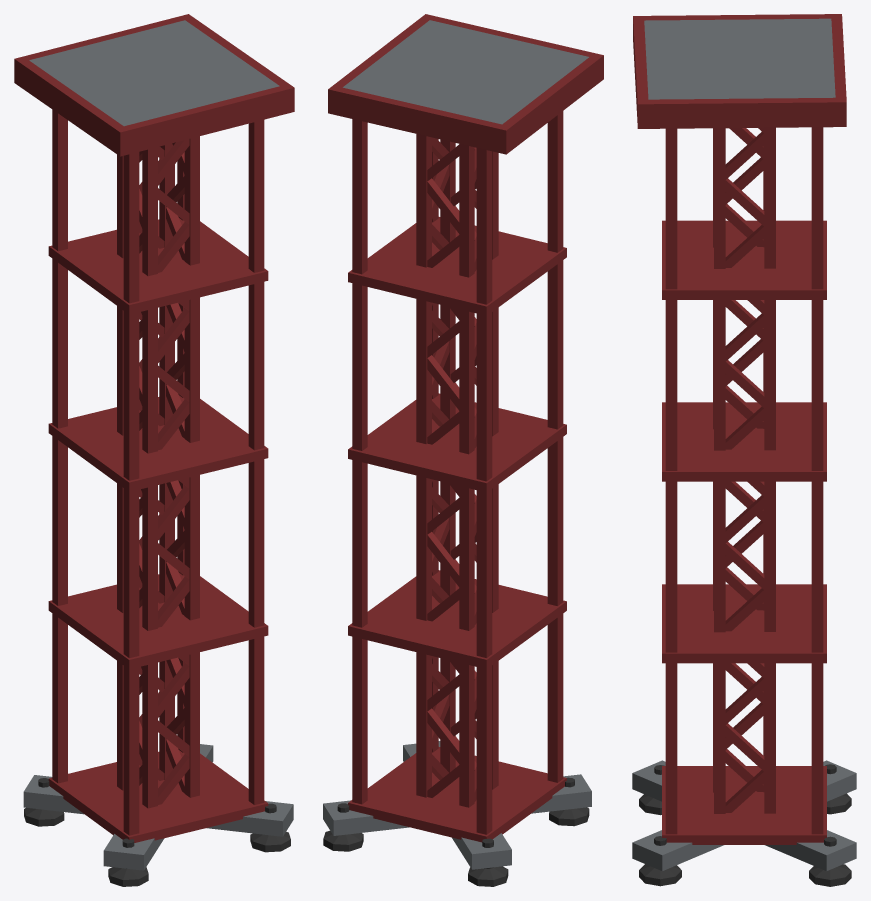
The model's file is DarkRedMetalDecorationLargeConstructionTower1.fbx.
3 views of the same model, side by side, from view 1: azimuth 30°, elevation 25°; view 2: azimuth 150°, elevation 25°; view 3: azimuth 270°, elevation 25° (orthographic). The views are drawn at different scales.
Visible parts, largest first — view 1: DarkRedMetalDecorationLargeConstructionTower1; view 2: DarkRedMetalDecorationLargeConstructionTower1; view 3: DarkRedMetalDecorationLargeConstructionTower1.
Part boxes in pixels (bbox=[...]): DarkRedMetalDecorationLargeConstructionTower1: bbox=[14, 14, 294, 886]; DarkRedMetalDecorationLargeConstructionTower1: bbox=[323, 14, 603, 886]; DarkRedMetalDecorationLargeConstructionTower1: bbox=[632, 14, 856, 886].
Bounding box in the file's own units: 782 × 2968 × 775.
